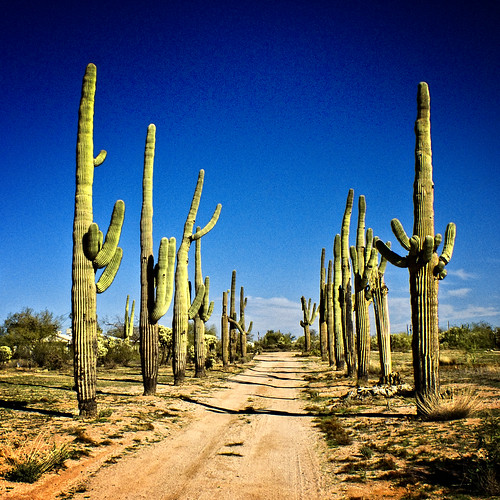cactus: (380, 77, 466, 416), (55, 51, 128, 423), (130, 96, 180, 396), (167, 171, 226, 383), (341, 179, 394, 400), (314, 230, 358, 375), (216, 261, 241, 367), (292, 284, 321, 363)
road: (32, 342, 328, 499)
sky: (1, 1, 488, 294)
